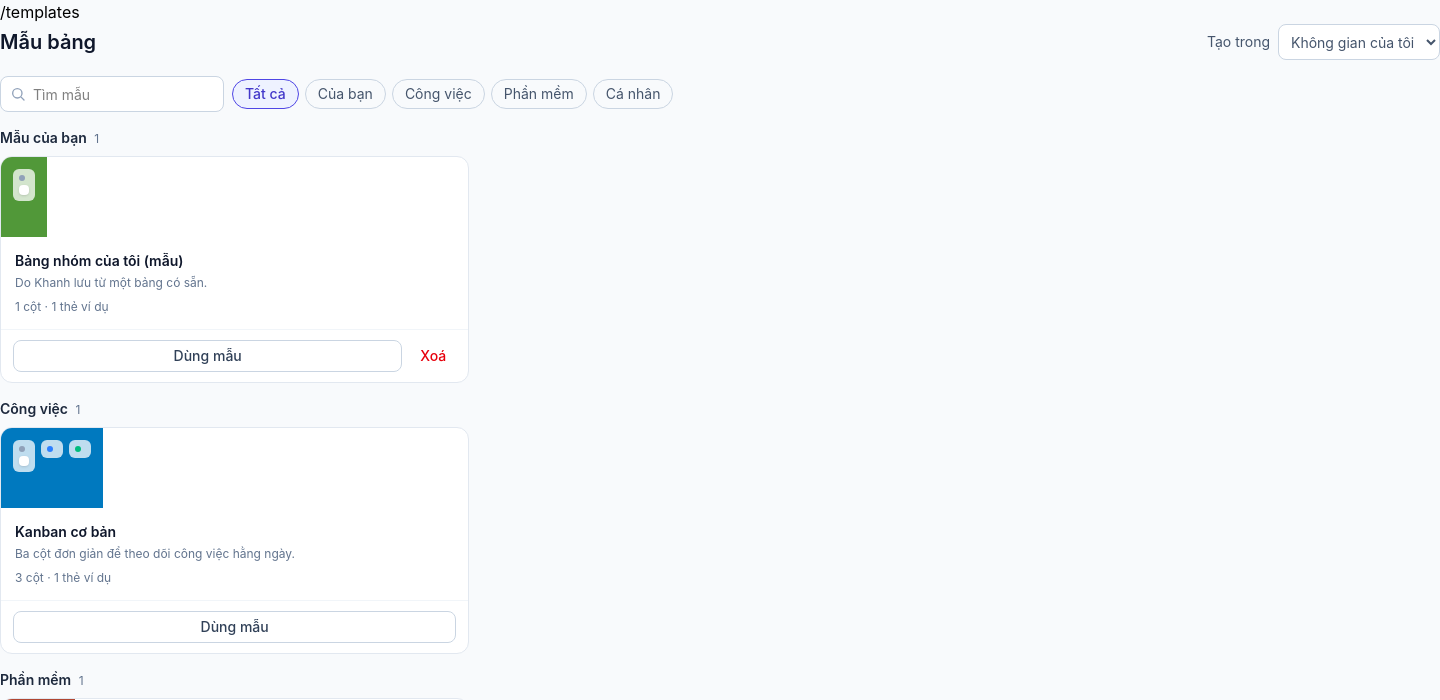
it: TemplatesPage › xoá mẫu của bạn: hỏi xác nhận, đồng ý thì gọi API và mẫu biến mất
This screenshot has width=1440, height=700.
Click the button with aria-label "Xoá mẫu Bảng nhóm của tôi (mẫu)". click: (433, 356)
box: [410,340,456,372]
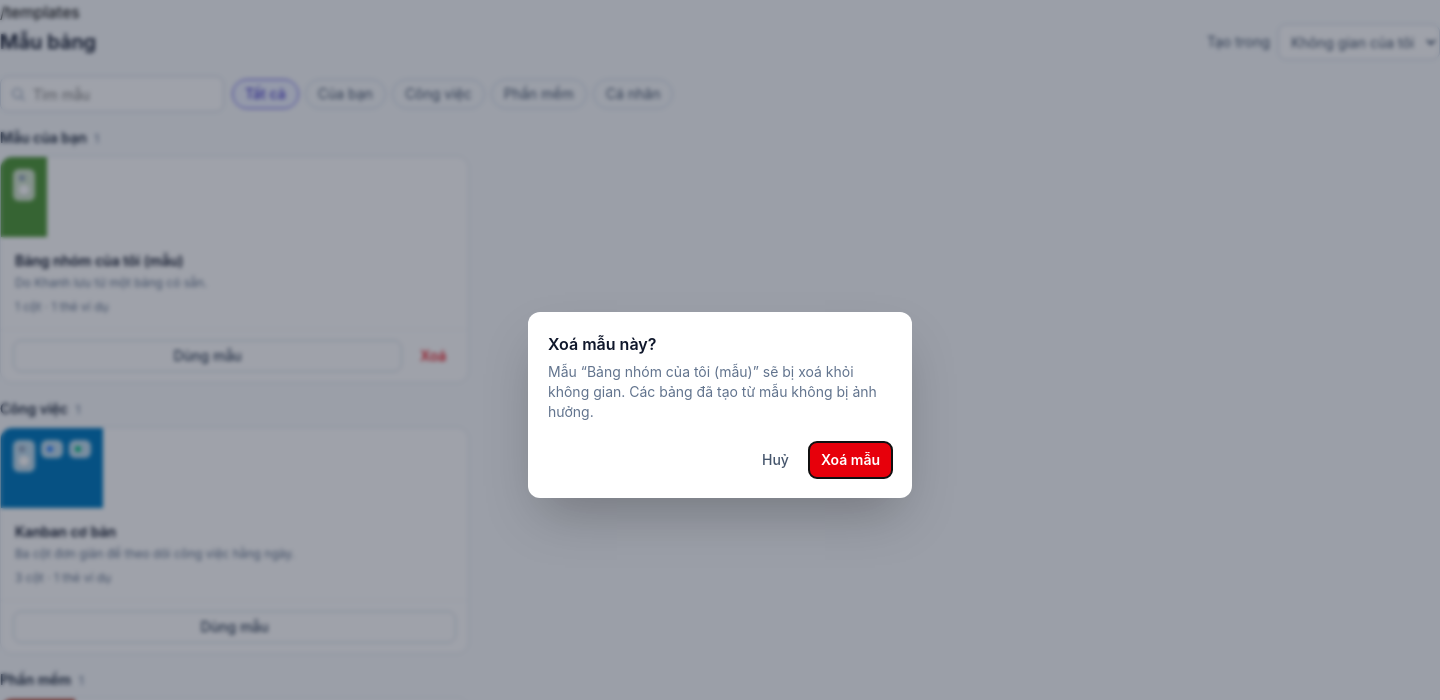
Click the button "Xoá mẫu". click: (850, 460)
box: [809,442,892,478]
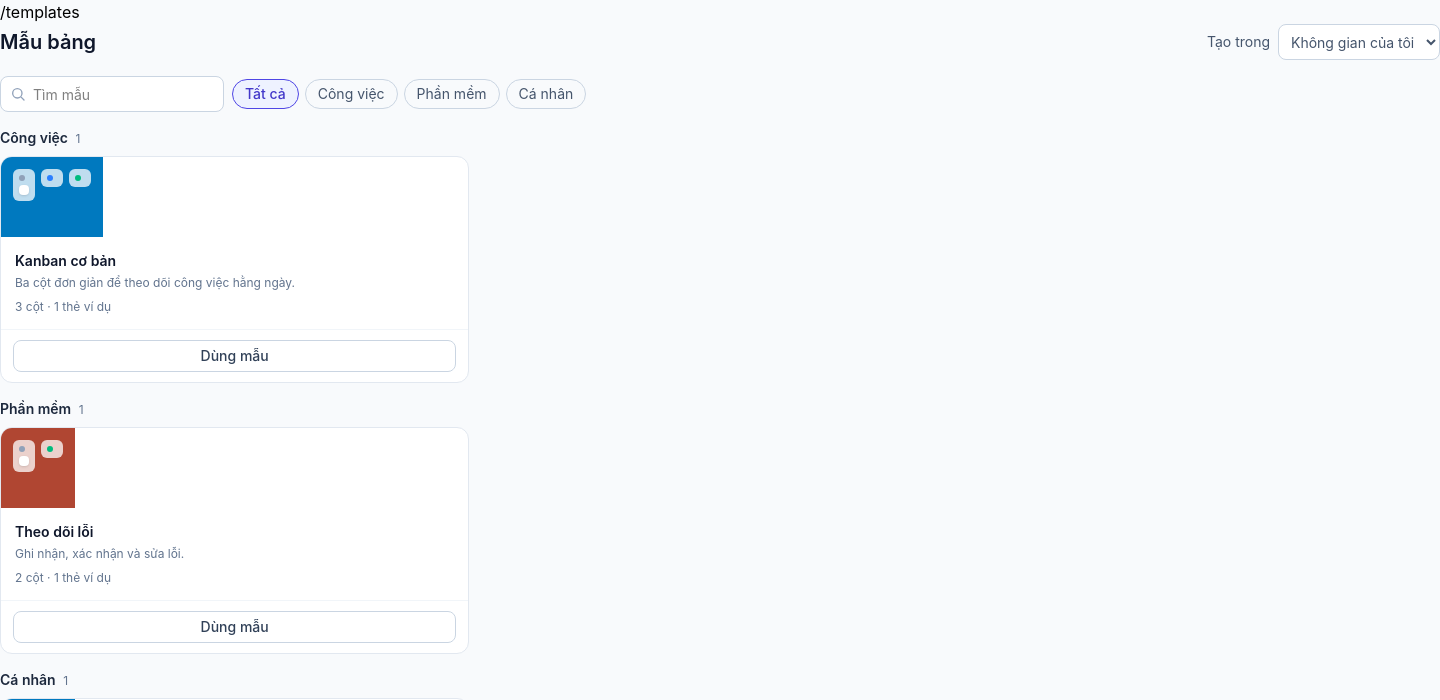
Expected: the heading "Mẫu của bạn" is gone
